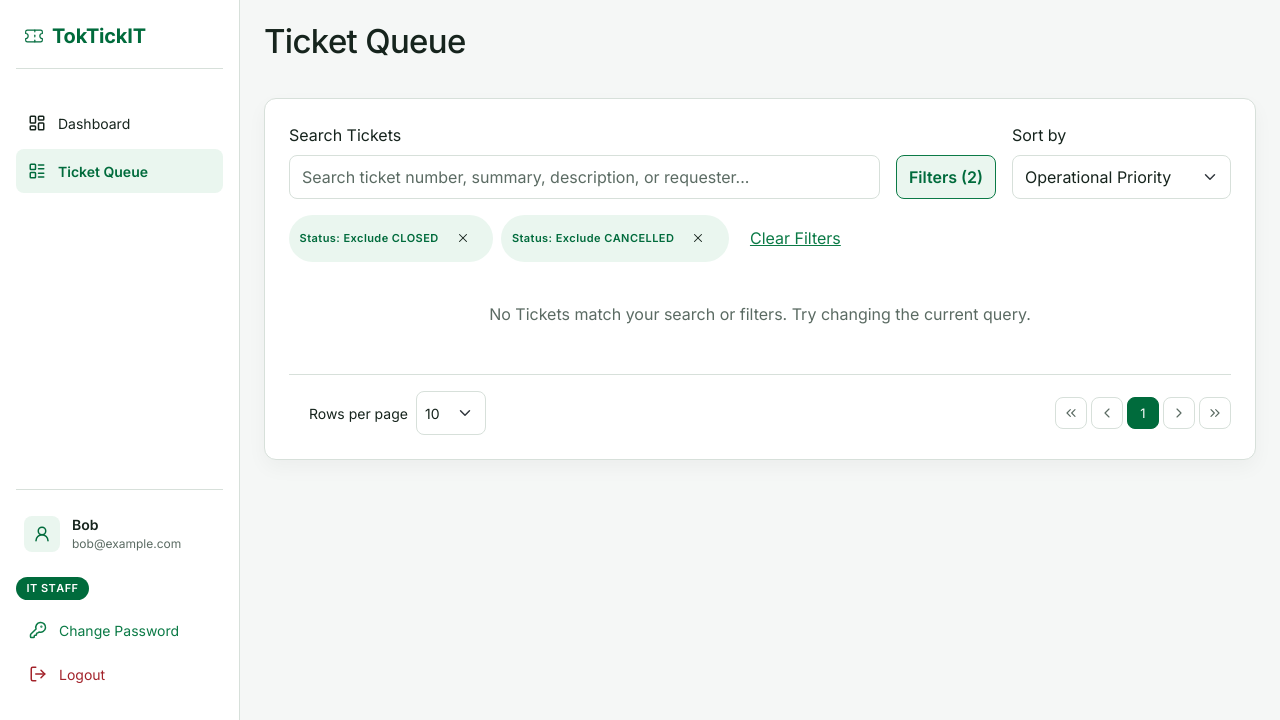
Scenario: Issue 3 authenticated shell › UI-06 shows identity, role-aware navigation, password action, and logout @issue-3
This screenshot has width=1280, height=720.
Expected: the text "Bob" is shown, x1=72 y1=516 x2=98 y2=533
Expected: the text "IT STAFF" is shown, x1=16 y1=577 x2=89 y2=600
What coordinates should you click on to do the following:
click the button "Logout"
I would click on:
 (120, 674)
Its box is x1=16 y1=652 x2=223 y2=696.
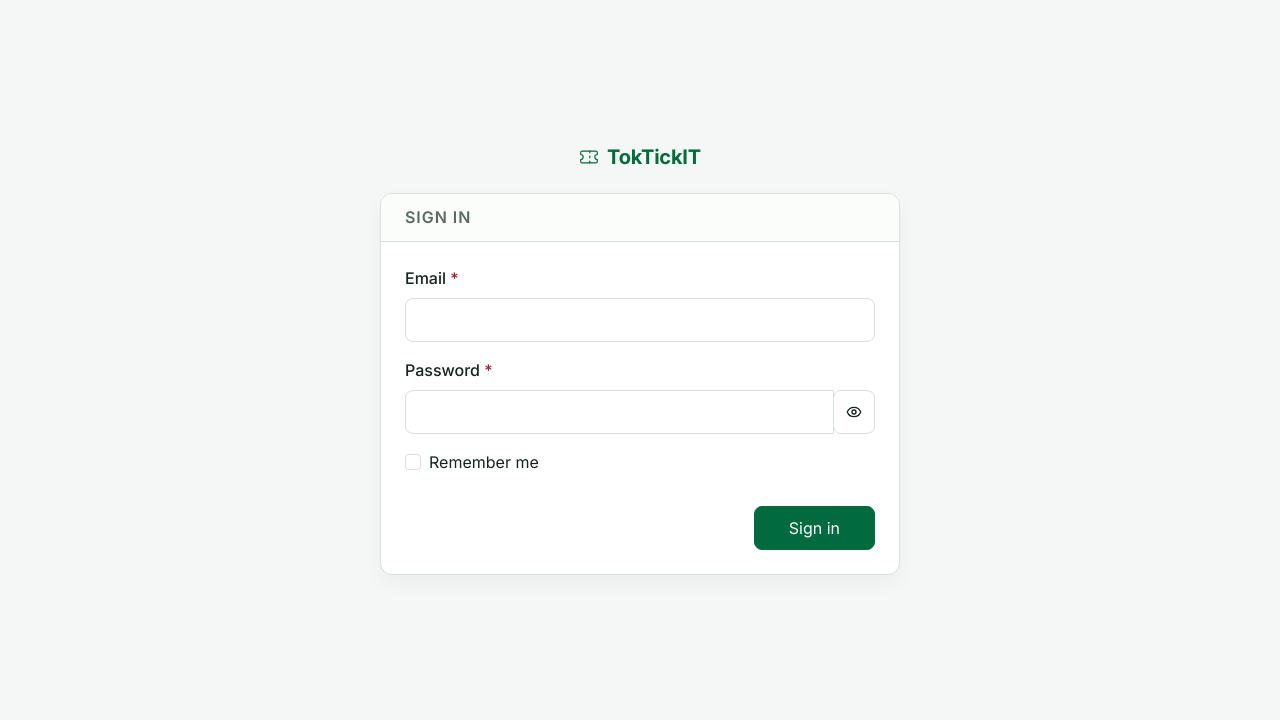
Expected: the heading "Sign in" is shown, x1=405 y1=208 x2=471 y2=227
